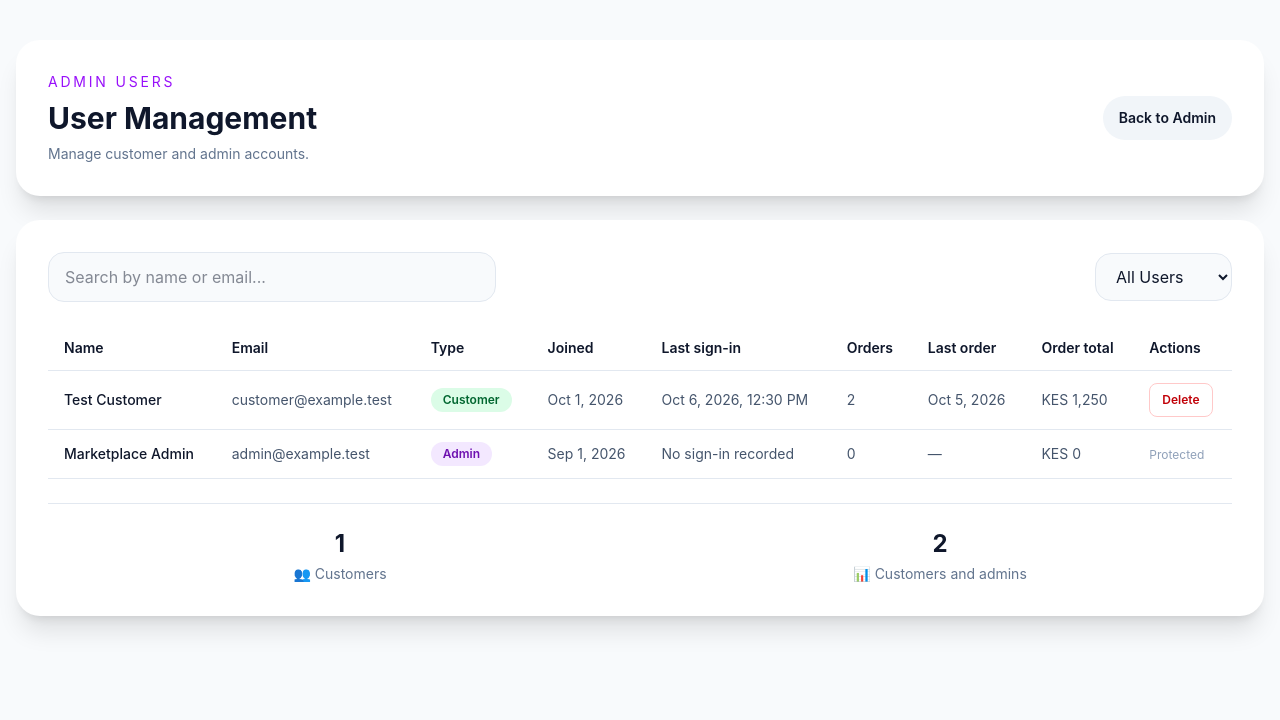
AdminUsersPage › shows an API error when customer deletion fails
This screenshot has width=1280, height=720.
Click the button with aria-label "Delete Test Customer" at (1181, 400), box top-left (1149, 383), bottom-right (1212, 417)
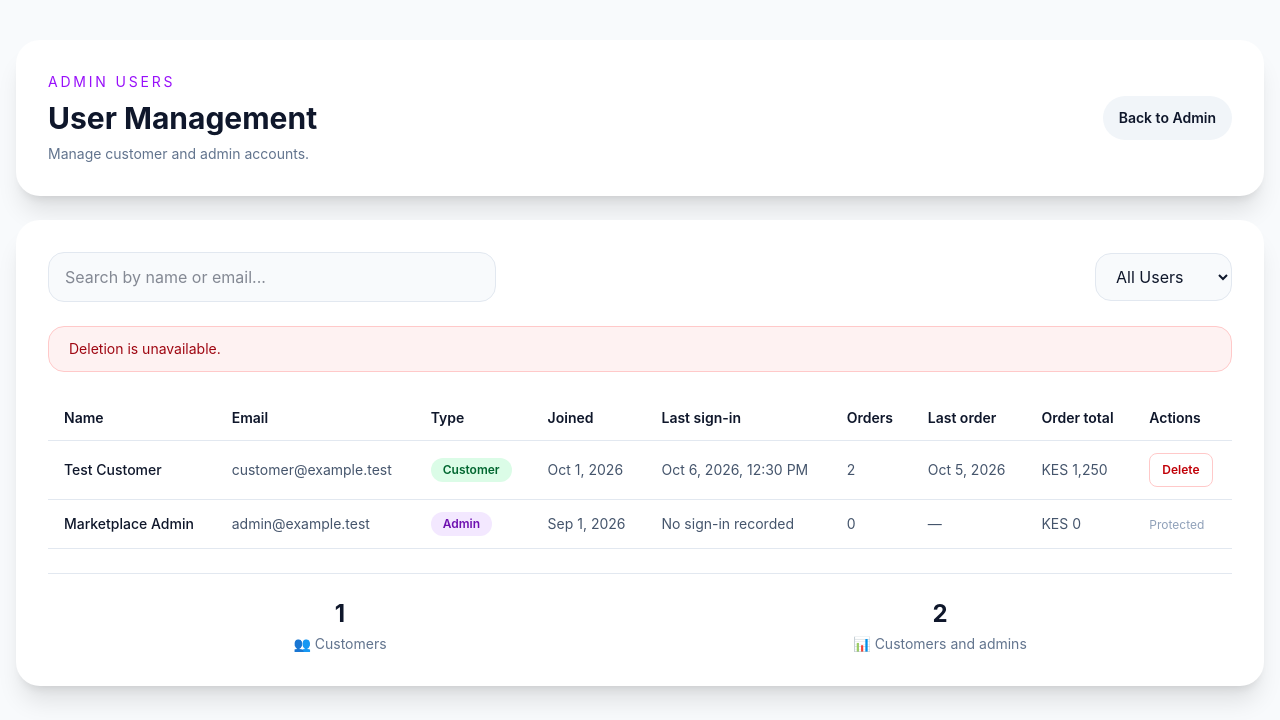
Expected: the text "customer@example.test" is shown, top-left (216, 440), bottom-right (415, 500)
Result: the message reads "Deletion is unavailable." at top-left (69, 340), bottom-right (221, 357)
